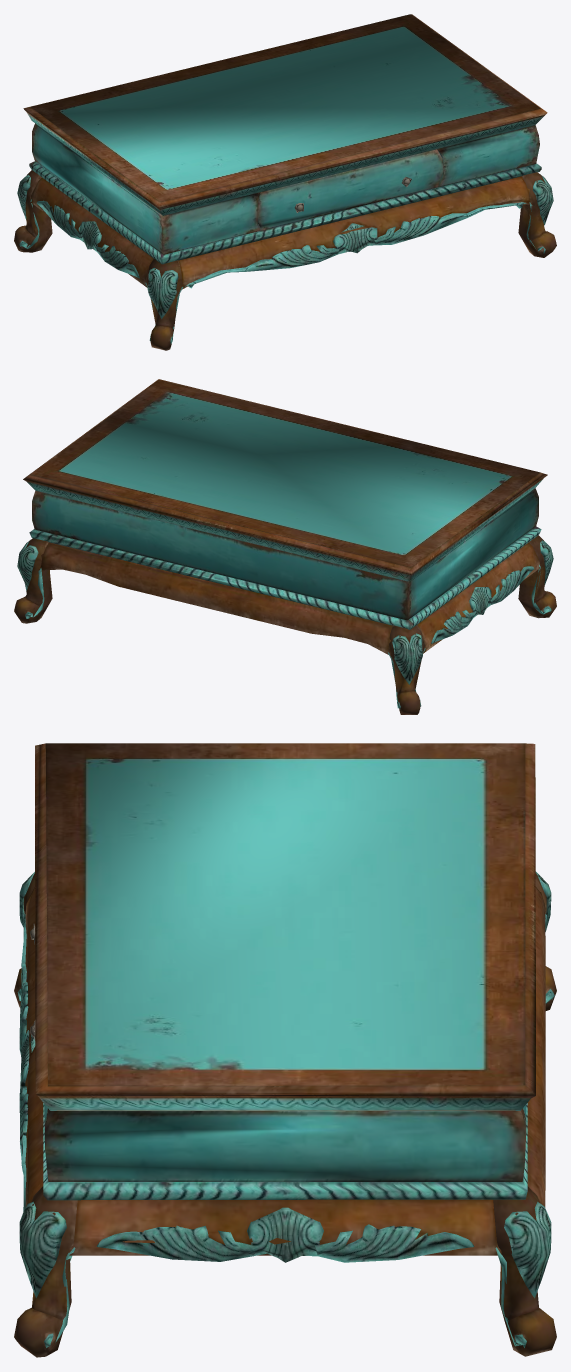
The model's file is CoffeeTable_01.glb.
3 renders of one model, top to bottom at view 1: azimuth 30°, elevation 25°; view 2: azimuth 150°, elevation 25°; view 3: azimuth 270°, elevation 25°, orthographic. The views are drawn at different scales.
Visible parts, largest first — view 1: CoffeeTable_01; view 2: CoffeeTable_01; view 3: CoffeeTable_01.
Boxes of the visible parts, x1,y1,x2,y2 form: CoffeeTable_01: (14,14,556,350); CoffeeTable_01: (14,379,556,714); CoffeeTable_01: (14,743,556,1357).
Size of the model in its own units: 1.54 by 0.5212 by 0.9728.
1 material, 1 textured.
